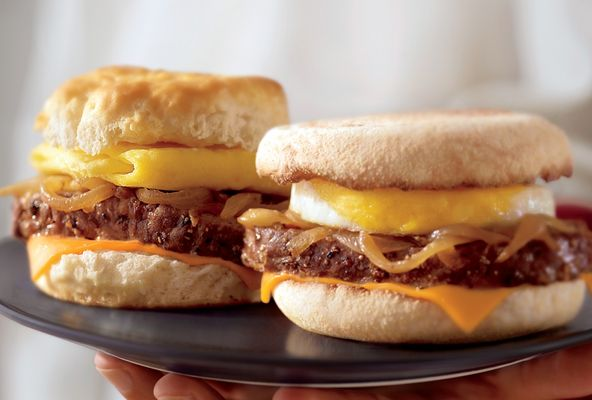soup: (7, 63, 592, 351)
